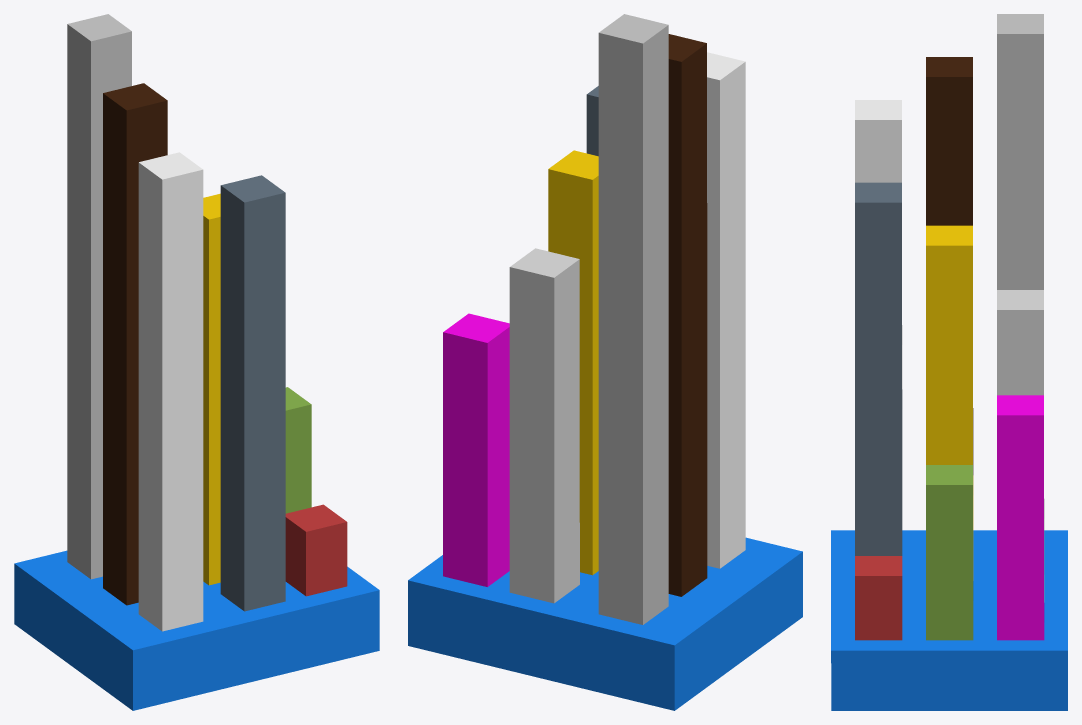
File: Statue06.fbx
3 renders of one model, left to right at view 1: azimuth 30°, elevation 25°; view 2: azimuth 150°, elevation 25°; view 3: azimuth 270°, elevation 25°, orthographic. The views are drawn at different scales.
Parts seen in each view (by area): view 1: blue Mesh (1), orange Mesh (1), pipe Mesh (1), vmppmax31_9_1_5_d Mesh (1), Brass_XO Mesh (1), yellow Mesh (1), red Mesh (1), Tree generic leaves GI outer Mesh (1); view 2: vmppmax31_9_1_5_d Mesh (1), blue Mesh (1), white Mesh (1), Brass_XO Mesh (1), orange Mesh (1), pink Mesh (1), yellow Mesh (1), pipe Mesh (1); view 3: blue Mesh (1), pipe Mesh (1), vmppmax31_9_1_5_d Mesh (1), pink Mesh (1), yellow Mesh (1), Tree generic leaves GI outer Mesh (1), Brass_XO Mesh (1), white Mesh (1), red Mesh (1), orange Mesh (1).
Part boxes in pixels (x1=…): blue Mesh (1): x1=14, y1=550, x2=379, y2=710; orange Mesh (1): x1=138, y1=152, x2=203, y2=631; pipe Mesh (1): x1=220, y1=175, x2=285, y2=611; vmppmax31_9_1_5_d Mesh (1): x1=67, y1=14, x2=131, y2=579; Brass_XO Mesh (1): x1=103, y1=83, x2=167, y2=605; yellow Mesh (1): x1=203, y1=193, x2=220, y2=585; red Mesh (1): x1=285, y1=504, x2=347, y2=596; Tree generic leaves GI outer Mesh (1): x1=285, y1=387, x2=311, y2=513; vmppmax31_9_1_5_d Mesh (1): x1=598, y1=14, x2=668, y2=624; blue Mesh (1): x1=408, y1=537, x2=802, y2=710; white Mesh (1): x1=509, y1=248, x2=579, y2=603; Brass_XO Mesh (1): x1=668, y1=34, x2=707, y2=596; orange Mesh (1): x1=707, y1=52, x2=745, y2=568; pink Mesh (1): x1=443, y1=313, x2=509, y2=586; yellow Mesh (1): x1=548, y1=150, x2=598, y2=575; pipe Mesh (1): x1=586, y1=86, x2=598, y2=156; blue Mesh (1): x1=831, y1=530, x2=1067, y2=710; pipe Mesh (1): x1=855, y1=182, x2=902, y2=555; vmppmax31_9_1_5_d Mesh (1): x1=997, y1=14, x2=1044, y2=554; pink Mesh (1): x1=997, y1=395, x2=1044, y2=640; yellow Mesh (1): x1=926, y1=225, x2=973, y2=580; Tree generic leaves GI outer Mesh (1): x1=926, y1=465, x2=973, y2=640; Brass_XO Mesh (1): x1=926, y1=57, x2=973, y2=474; white Mesh (1): x1=997, y1=290, x2=1044, y2=602; red Mesh (1): x1=855, y1=556, x2=902, y2=640; orange Mesh (1): x1=855, y1=100, x2=902, y2=388.
Bounding box in the file's own units: 3 × 6.96 × 2.5.
